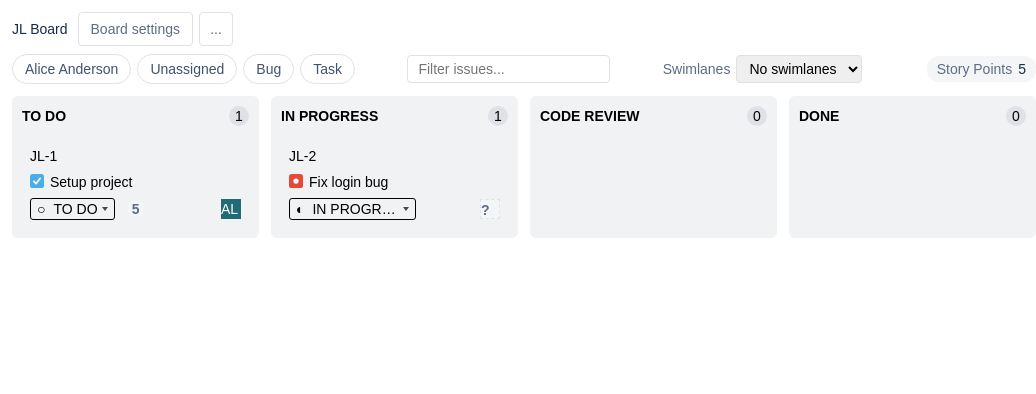
JL-387 — status is a lozenge, not a native select › offers the project workflow statuses as transitions
Expected: the text "Setup project" is shown, [50, 172, 132, 192]
Click the button with aria-label "Status for JL-1:" at (72,209), box [30, 198, 114, 220]
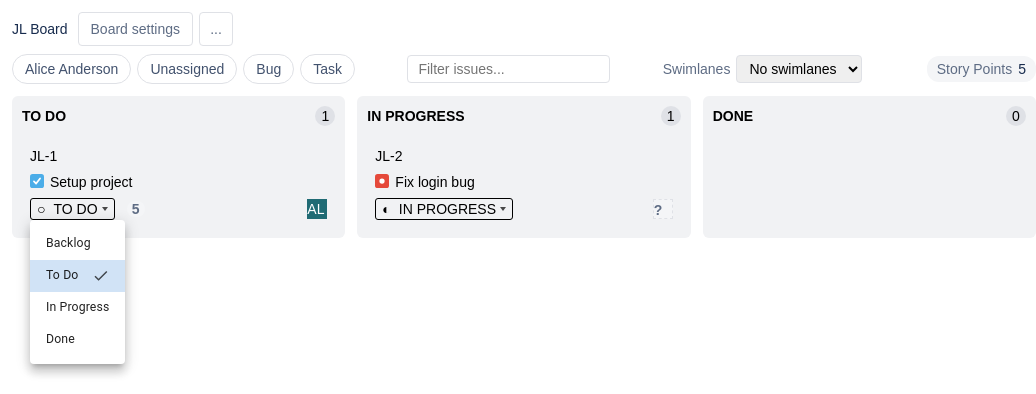
Expected: the menu item "Backlog" is shown, [46, 236, 91, 250]
Expected: the menu item "To Do" is shown, [30, 260, 125, 292]
Expected: the menu item "In Progress" is shown, [46, 300, 109, 314]
